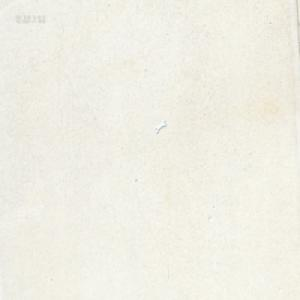Wrench: (155, 120, 166, 134)
